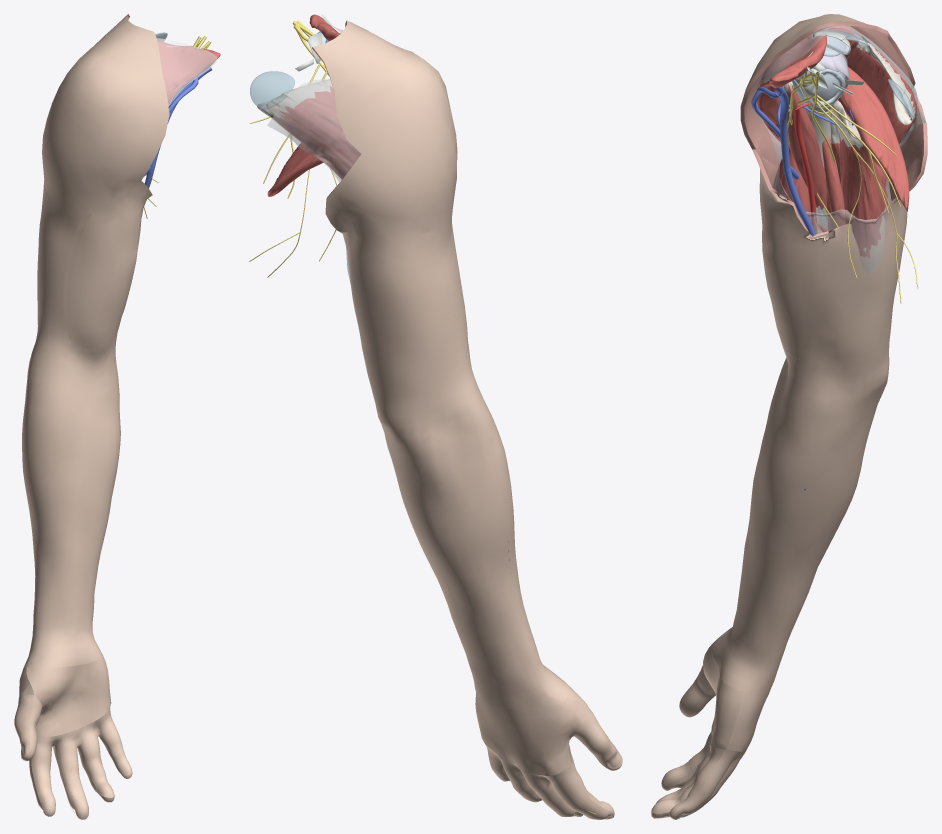
File: upper_limb_r.glb
3 renders of one model, left to right at view 1: azimuth 30°, elevation 25°; view 2: azimuth 150°, elevation 25°; view 3: azimuth 270°, elevation 25°, orthographic. The views are drawn at different scales.
Visible parts, largest first — view 1: deltoid_region_r, anterior_region_of_forearm_r, anterior_region_of_arm_r, palmar_surfaces_of_digits_of_hand_r, palm_r, anterior_region_of_elbow_r, deltoid_fascia_r, clavicular_part_of_deltoid_muscle_r, anterior_region_of_wrist_r, posterior_region_of_arm_r, dorsal_surfaces_of_digits_of_hand_r, lateral_border_of_forearm_r (+3 smaller); view 2: posterior_region_of_arm_r, posterior_region_of_forearm_r, deltoid_region_r, posterior_region_of_elbow_r, dorsum_of_hand_r, deltoid_fascia_r, dorsal_surfaces_of_digits_of_hand_r, scapular_spinal_part_of_deltoid_muscle_r, posterior_region_of_wrist_r, anterior_region_of_arm_r, lateral_border_of_forearm_r, subtendinous_bursa_of_trapezius_muscle_r (+1 smaller); view 3: anterior_region_of_forearm_r, posterior_region_of_arm_r, anterior_region_of_arm_r, posterior_region_of_forearm_r, deltoid_region_r, long_head_of_triceps_brachii_r, teres_minor_muscle_r, palmar_surfaces_of_digits_of_hand_r, posterior_region_of_elbow_r, scapular_spinal_part_of_deltoid_muscle_r, anterior_region_of_elbow_r, brachial_fascia_r (+19 smaller).
Boxes of the visible parts, x1=… form: deltoid_region_r: x1=42, y1=14, x2=169, y2=214; anterior_region_of_forearm_r: x1=29, y1=392, x2=120, y2=639; anterior_region_of_arm_r: x1=40, y1=181, x2=152, y2=348; palmar_surfaces_of_digits_of_hand_r: x1=27, y1=695, x2=132, y2=818; palm_r: x1=26, y1=656, x2=111, y2=736; anterior_region_of_elbow_r: x1=27, y1=337, x2=119, y2=404; deltoid_fascia_r: x1=157, y1=38, x2=217, y2=105; clavicular_part_of_deltoid_muscle_r: x1=157, y1=41, x2=220, y2=104; anterior_region_of_wrist_r: x1=27, y1=632, x2=103, y2=668; posterior_region_of_arm_r: x1=37, y1=180, x2=54, y2=336; dorsal_surfaces_of_digits_of_hand_r: x1=14, y1=693, x2=121, y2=819; lateral_border_of_forearm_r: x1=24, y1=395, x2=41, y2=627; posterior_region_of_arm_r: x1=325, y1=154, x2=467, y2=395; posterior_region_of_forearm_r: x1=386, y1=440, x2=544, y2=683; deltoid_region_r: x1=312, y1=20, x2=457, y2=233; posterior_region_of_elbow_r: x1=371, y1=378, x2=489, y2=455; dorsum_of_hand_r: x1=475, y1=693, x2=589, y2=776; deltoid_fascia_r: x1=267, y1=14, x2=361, y2=182; dorsal_surfaces_of_digits_of_hand_r: x1=486, y1=708, x2=622, y2=819; scapular_spinal_part_of_deltoid_muscle_r: x1=257, y1=79, x2=361, y2=179; posterior_region_of_wrist_r: x1=472, y1=673, x2=566, y2=709; anterior_region_of_arm_r: x1=443, y1=219, x2=472, y2=377; lateral_border_of_forearm_r: x1=490, y1=435, x2=540, y2=665; subtendinous_bursa_of_trapezius_muscle_r: x1=250, y1=71, x2=294, y2=109; anterior_region_of_forearm_r: x1=731, y1=377, x2=815, y2=663; posterior_region_of_arm_r: x1=827, y1=89, x2=927, y2=366; anterior_region_of_arm_r: x1=752, y1=149, x2=836, y2=365; posterior_region_of_forearm_r: x1=758, y1=404, x2=877, y2=663; deltoid_region_r: x1=740, y1=14, x2=915, y2=166; long_head_of_triceps_brachii_r: x1=832, y1=100, x2=889, y2=258; teres_minor_muscle_r: x1=837, y1=67, x2=909, y2=211; palmar_surfaces_of_digits_of_hand_r: x1=651, y1=665, x2=724, y2=816; posterior_region_of_elbow_r: x1=825, y1=343, x2=889, y2=428; scapular_spinal_part_of_deltoid_muscle_r: x1=844, y1=40, x2=916, y2=143; anterior_region_of_elbow_r: x1=777, y1=353, x2=833, y2=429; brachial_fascia_r: x1=769, y1=132, x2=900, y2=273.
Bounding box in the file's own units: 0.2602 × 0.7376 × 0.2113.
